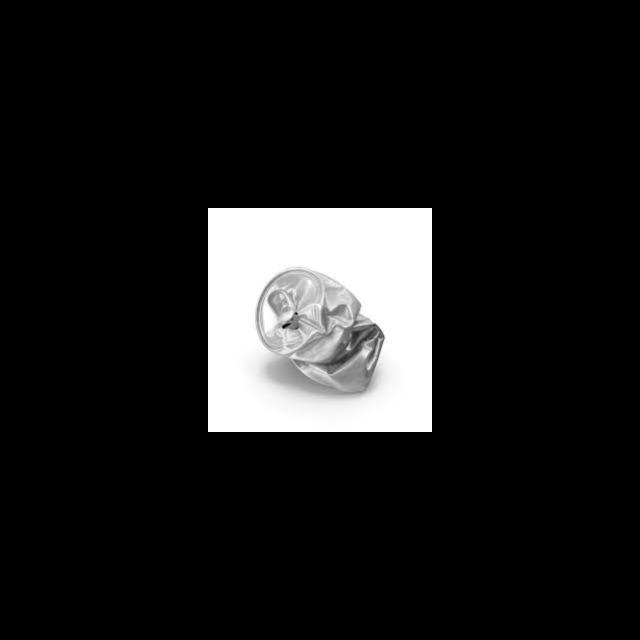metal: (255, 263, 389, 401)
